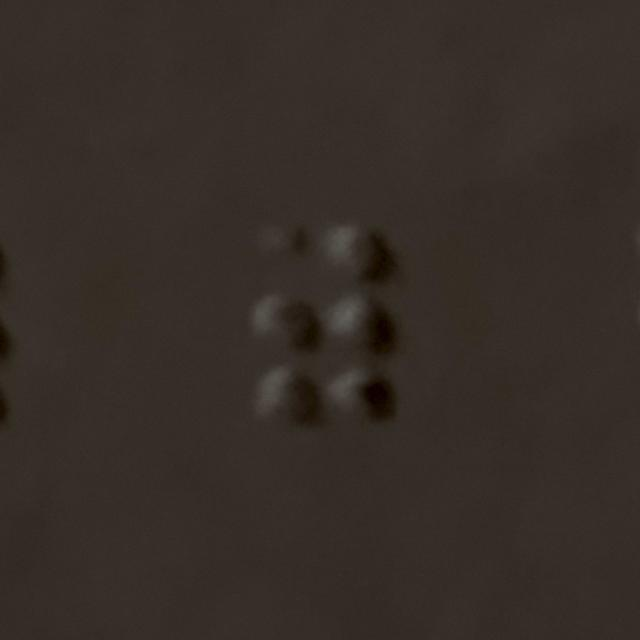one_cell_non_alphabet_na: (252, 225, 395, 427)
